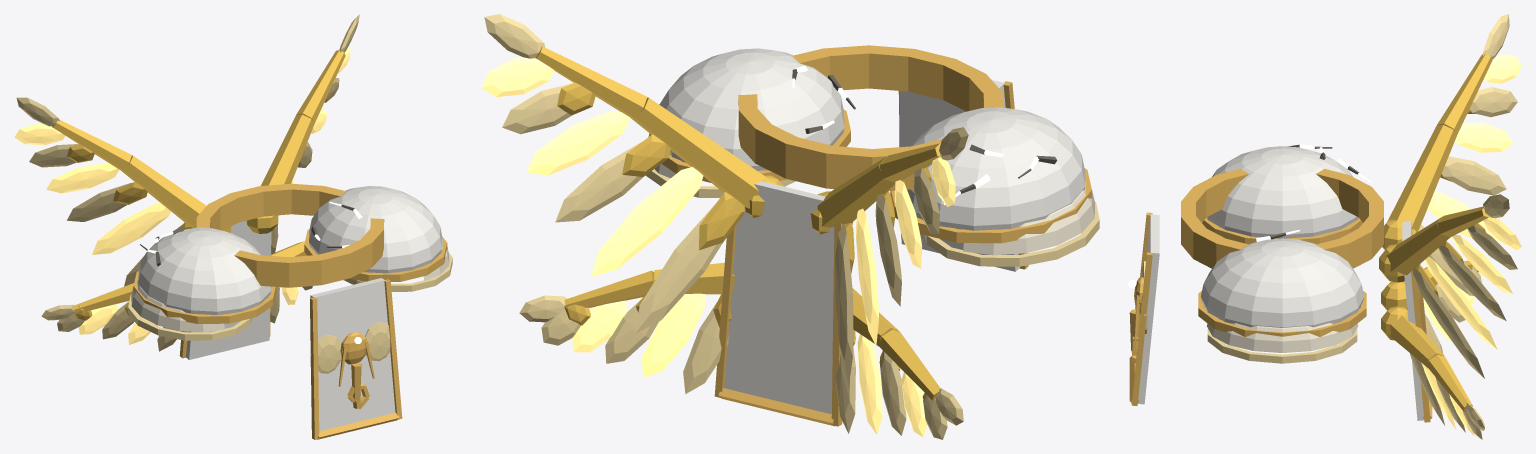
Rendered from first_guardian_mantle.glb.
3 renders of one model, left to right at view 1: azimuth 30°, elevation 25°; view 2: azimuth 150°, elevation 25°; view 3: azimuth 270°, elevation 25°, orthographic. The views are drawn at different scales.
Parts seen in each view (by area): view 1: first_guardian_mantle; view 2: first_guardian_mantle; view 3: first_guardian_mantle.
Part boxes in pixels (box(x1,y1,x2,y2)): first_guardian_mantle: box(14, 14, 452, 439); first_guardian_mantle: box(481, 14, 1099, 439); first_guardian_mantle: box(1128, 14, 1521, 439).
Bounding box in the file's own units: 1.45 × 1.07 × 1.3.
